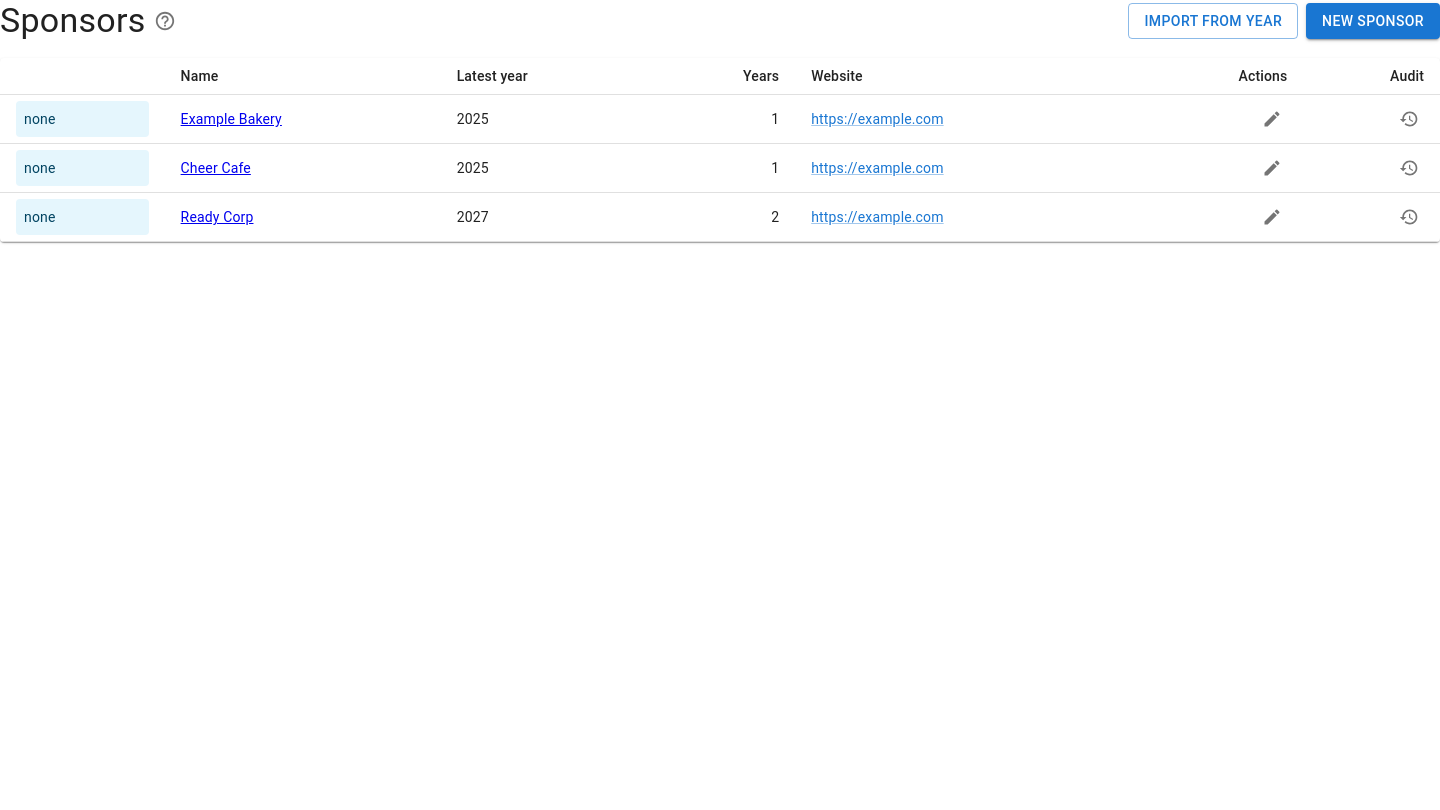
Test case: SponsorsList: import from year › lists candidates that have the from year and lack the to year (all ticked by default), and POSTs the tick list
The image size is (1440, 810).
Expected: the link "Example Bakery" is shown, [181,111,282,127]
Click the button "Import from year". click: [1213, 21]
box: [1128,3,1298,39]
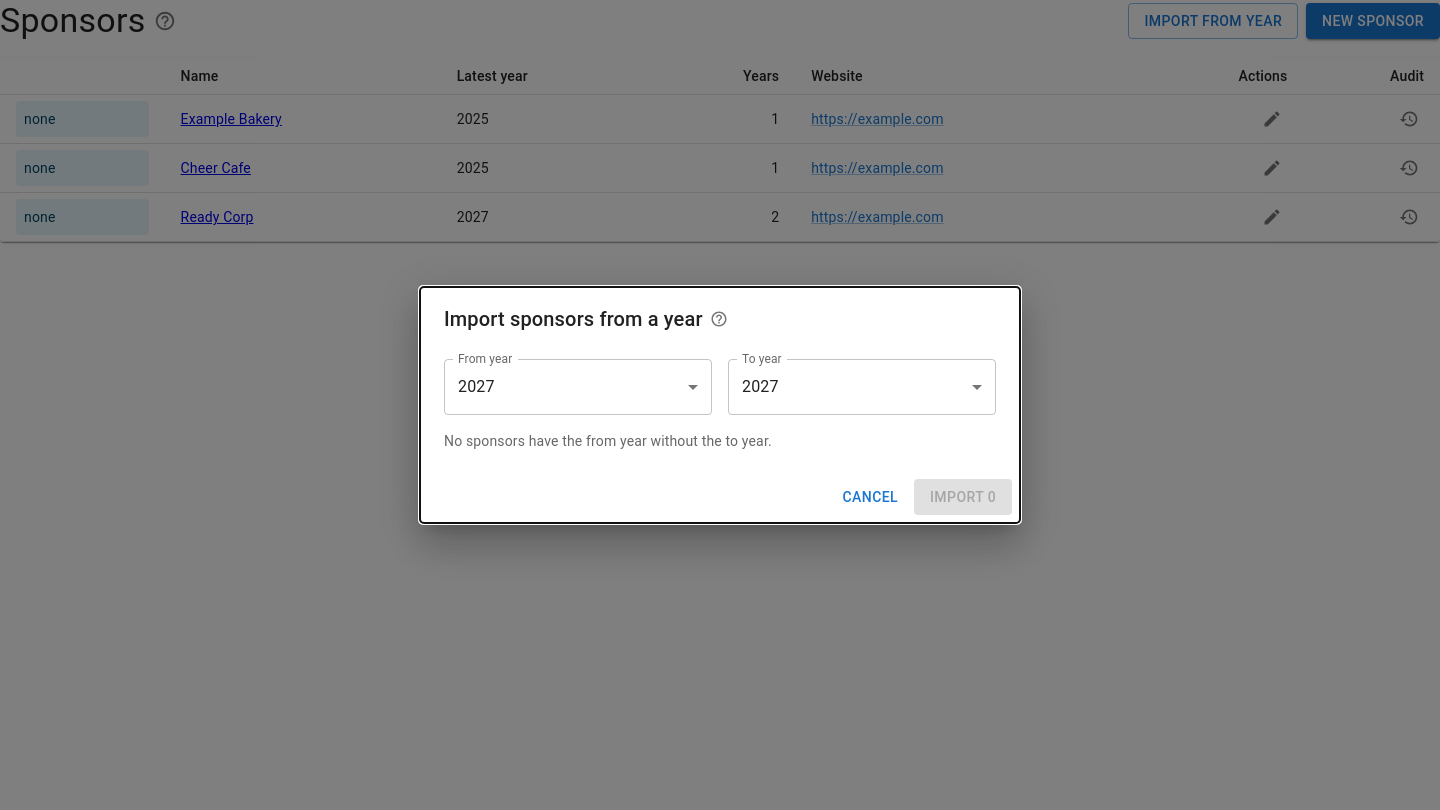
Now the button with test id "help-sponsors.import" is shown, box [707,307,731,331]
Click the dropdown named "from year". click: [476, 387]
box: [458,377,495,396]
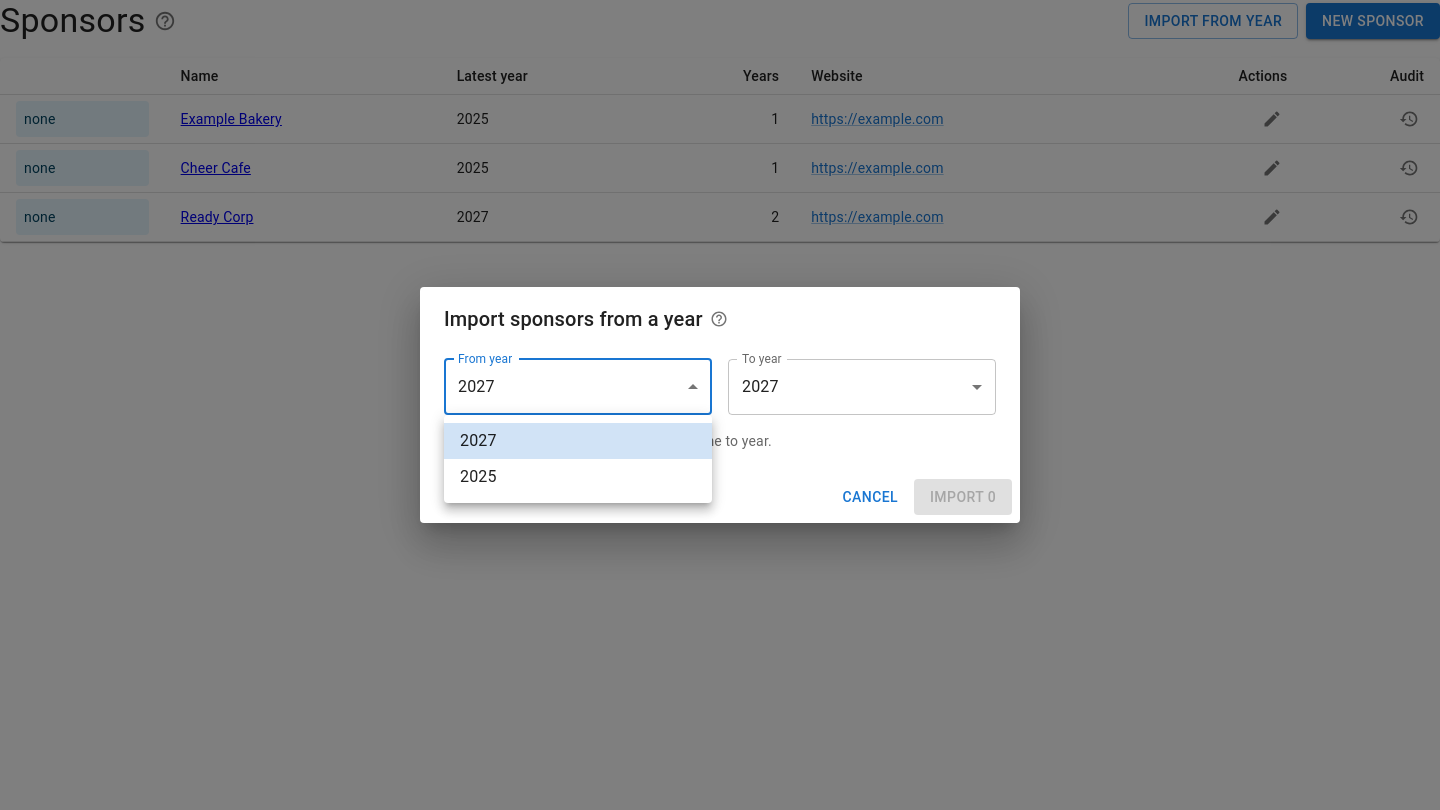
Click the option "2025". click: [478, 476]
box: [460,467,497,486]
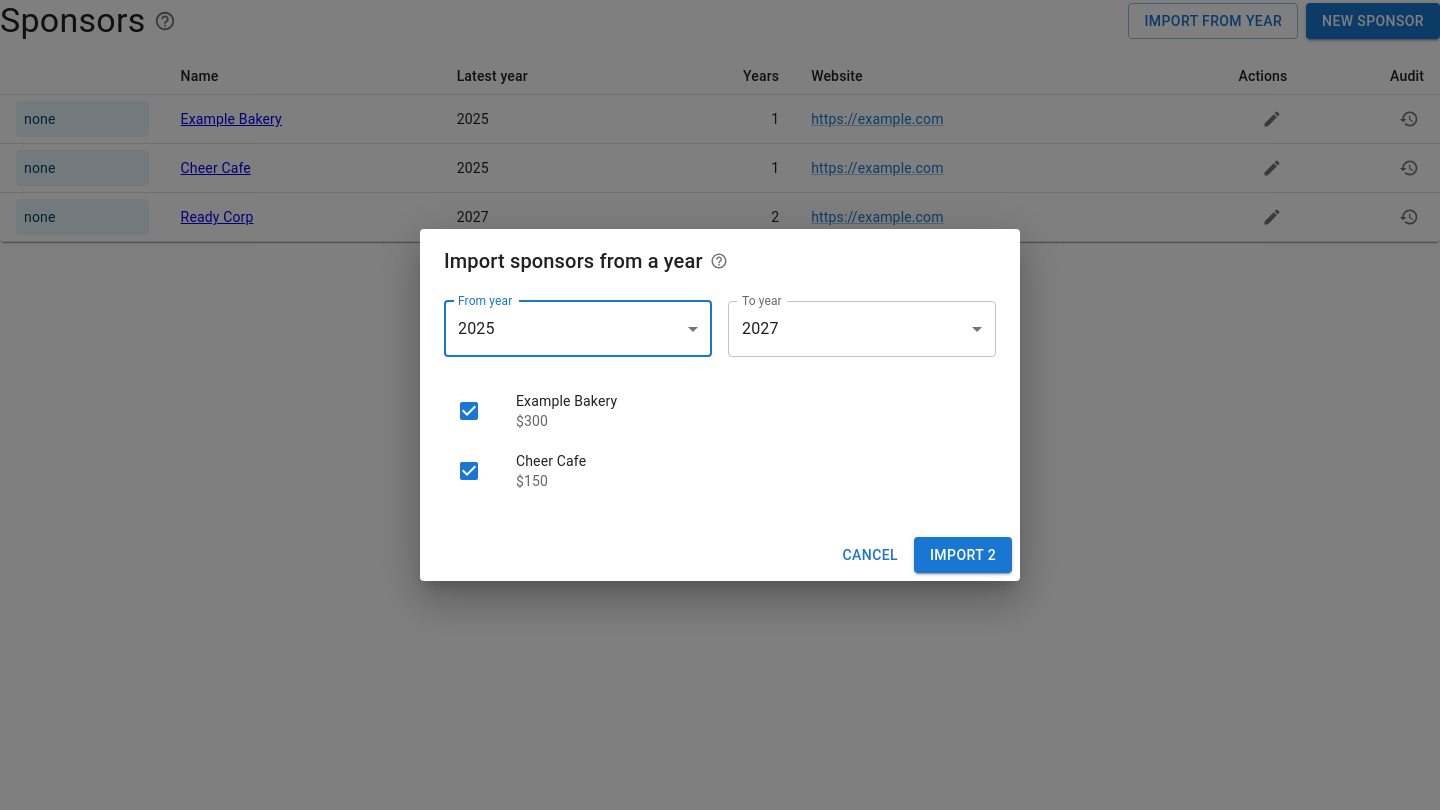
Now the text "Example Bakery" is shown, box [516,393,617,409]
Now the text "Cheer Cafe" is shown, box [516,453,586,469]
Note: Both ticked by default: click Import and the body contains both ids.
Click the button "Import 2". click: [963, 555]
box: [914,537,1012,573]
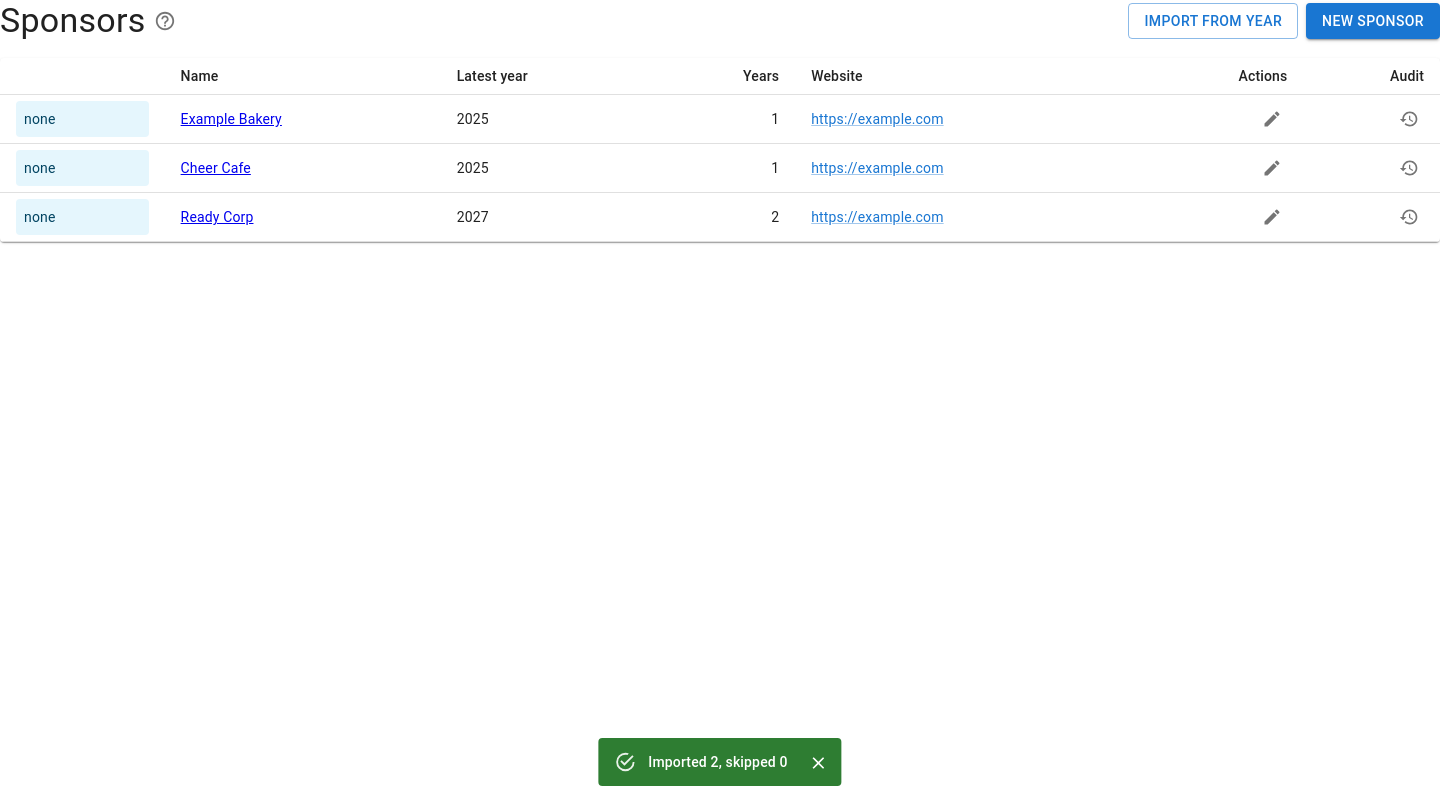
Now the text "Imported 2, skipped 0" is shown, box [648,754,788,770]
